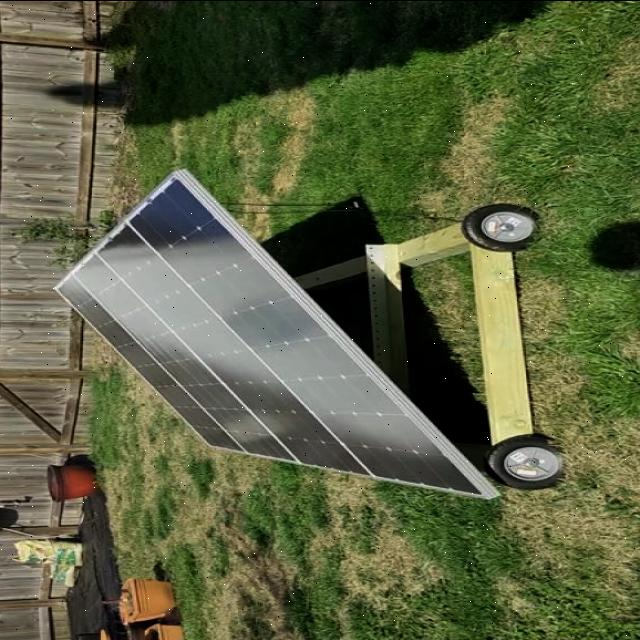Normal Solar Panel: (55, 170, 488, 498)
